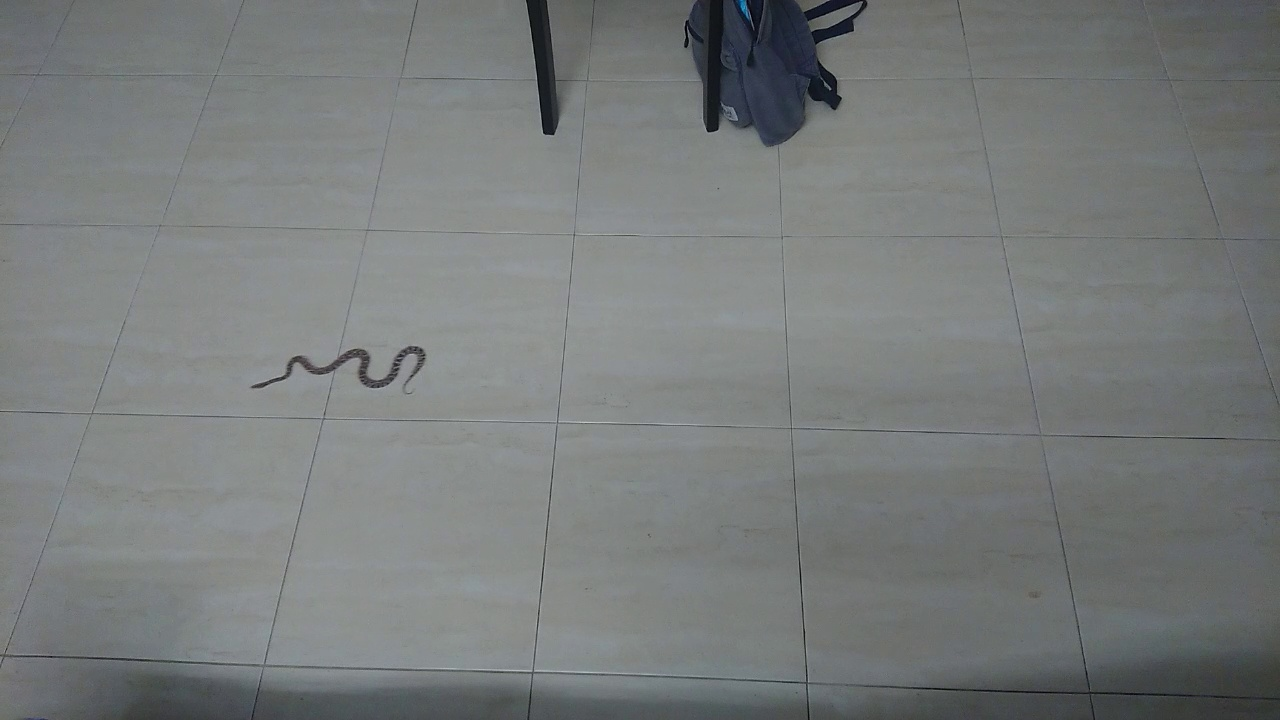snake: (243, 332, 438, 402)
